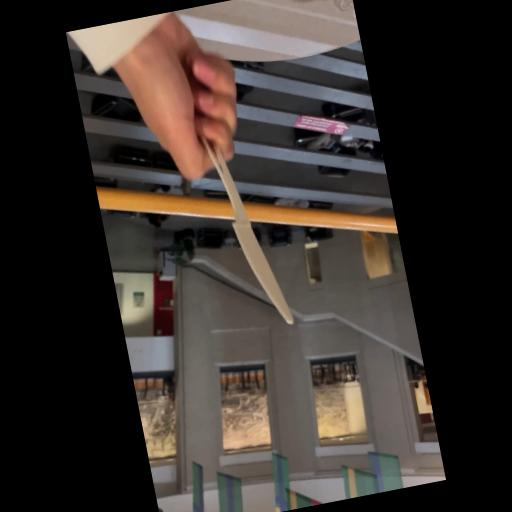utensil: (196, 119, 296, 338)
